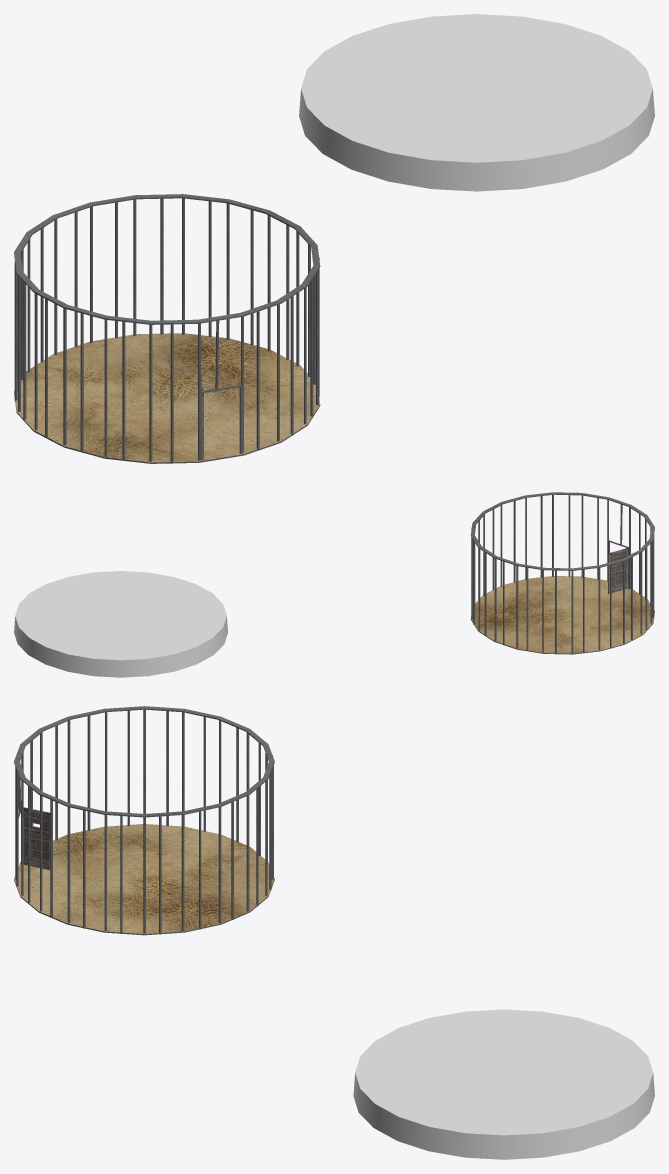
Rendered from Centre Cage.FBX.
3 renders of one model, top to bottom at view 1: azimuth 30°, elevation 25°; view 2: azimuth 150°, elevation 25°; view 3: azimuth 270°, elevation 25°, orthographic. The views are drawn at different scales.
Parts seen in each view (by area): view 1: Cone001, Cylinder008; view 2: Cone001, Cylinder008; view 3: Cone001, Cylinder008.
Part boxes in pixels (left/top/right/bottom): Cone001: left=299, top=14, right=654, bottom=191; Cylinder008: left=14, top=194, right=320, bottom=463; Cone001: left=14, top=571, right=227, bottom=677; Cylinder008: left=470, top=492, right=654, bottom=654; Cone001: left=353, top=1009, right=654, bottom=1159; Cylinder008: left=14, top=706, right=274, bottom=935.
Bounding box in the file's own units: 607 × 101 × 492.
1 material, 1 textured.
